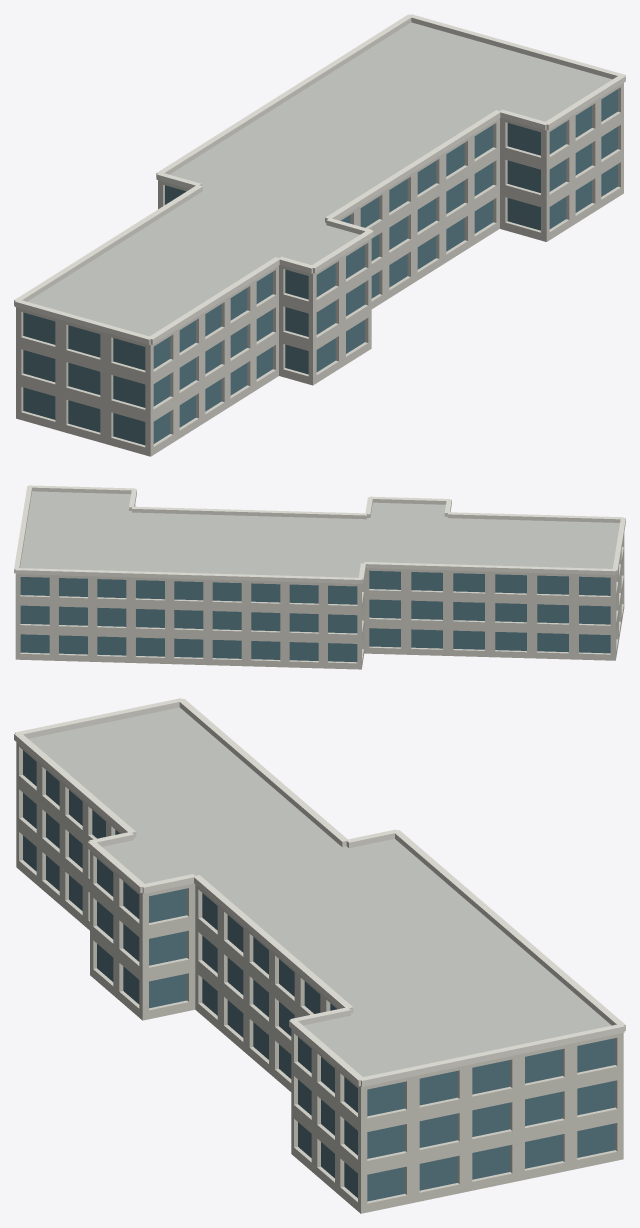
File: sb_979796699.far.glb
3 renders of one model, top to bottom at view 1: azimuth 30°, elevation 25°; view 2: azimuth 150°, elevation 25°; view 3: azimuth 270°, elevation 25°, orthographic. The views are drawn at different scales.
Visible parts, largest first — view 1: roof, wall, glass, trim; view 2: roof, wall, glass, trim; view 3: roof, wall, glass, trim.
Boxes of the visible parts, <box> form: roof: <box>27,22,612,336</box>; wall: <box>16,83,623,456</box>; glass: <box>23,89,617,445</box>; trim: <box>14,14,625,344</box>; roof: <box>20,491,619,577</box>; wall: <box>15,505,624,669</box>; glass: <box>20,570,610,662</box>; trim: <box>14,485,625,583</box>; roof: <box>28,707,611,1076</box>; wall: <box>16,742,623,1213</box>; glass: <box>23,750,615,1201</box>; trim: <box>14,698,625,1086</box>.
Bounding box in the file's own units: 59.75 × 9.74 × 40.36.
